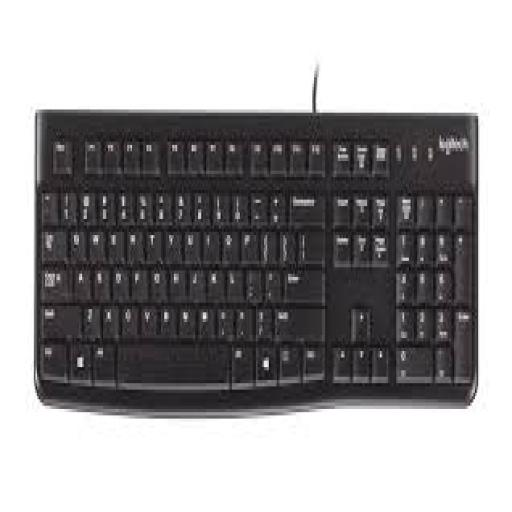KEYBOARD-2: (34, 109, 475, 412)
